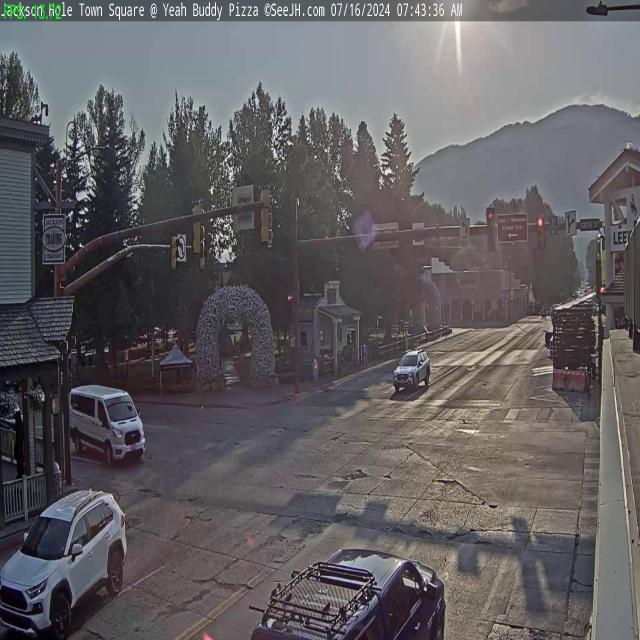suv: (246, 538, 450, 639), (0, 486, 130, 639), (392, 346, 431, 394)
traffic light: (190, 199, 203, 256), (260, 184, 272, 244), (487, 208, 496, 254), (536, 215, 545, 248), (171, 235, 179, 272)
van: (70, 385, 146, 474)
